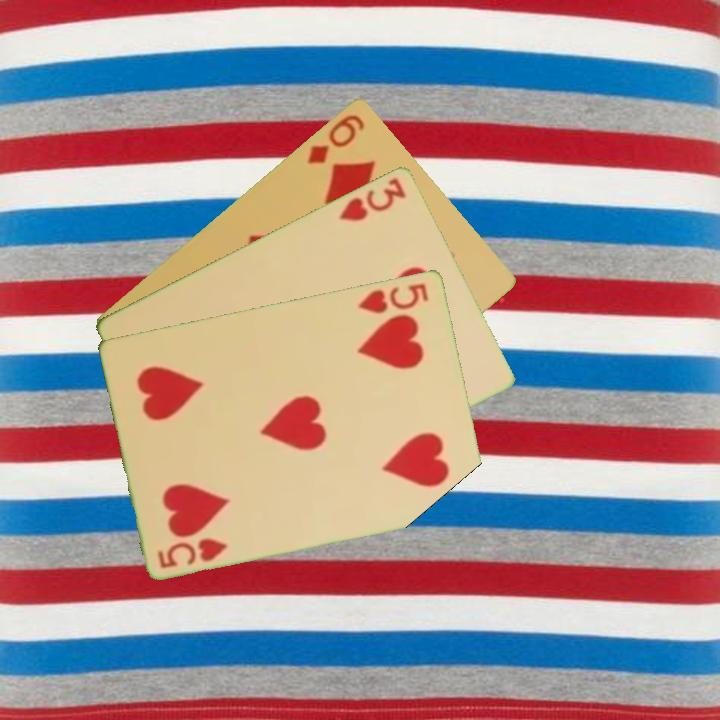3h: (335, 173, 409, 224)
5h: (355, 279, 432, 316), (154, 534, 231, 571)
6d: (303, 110, 368, 167)
